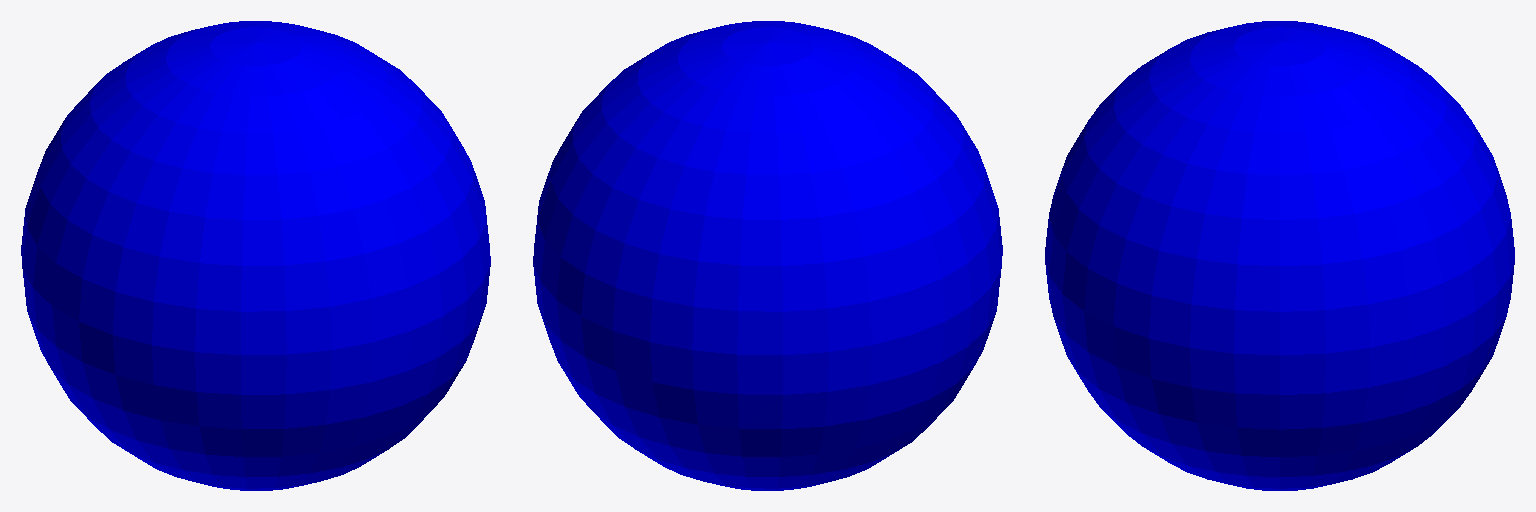
Rendered from Pbullet.obj.
3 views of the same model, side by side, from view 1: azimuth 30°, elevation 25°; view 2: azimuth 150°, elevation 25°; view 3: azimuth 270°, elevation 25° (orthographic).
Visible parts, largest first — view 1: Sphere; view 2: Sphere; view 3: Sphere.
Part boxes in pixels (left/top/right/bottom): Sphere: left=21, top=21, right=490, bottom=490; Sphere: left=533, top=21, right=1002, bottom=490; Sphere: left=1045, top=21, right=1514, bottom=490.
Bounding box in the file's own units: 0.4 × 0.4 × 0.4.